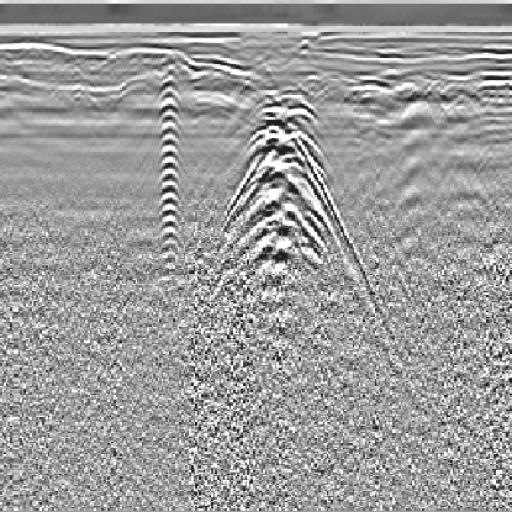metalic: (211, 73, 355, 300)
